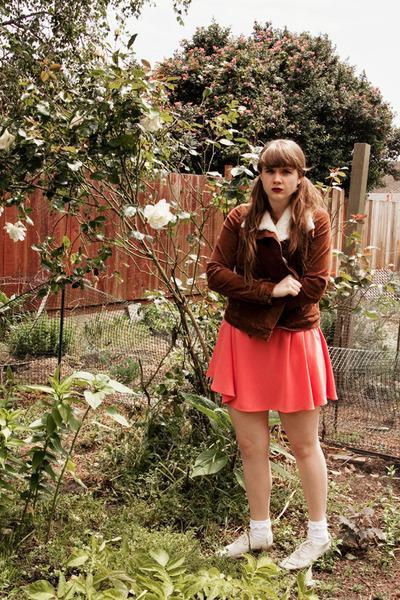jacket: (206, 210, 332, 344)
shoe: (214, 531, 323, 585)
skirt: (206, 300, 340, 412)
